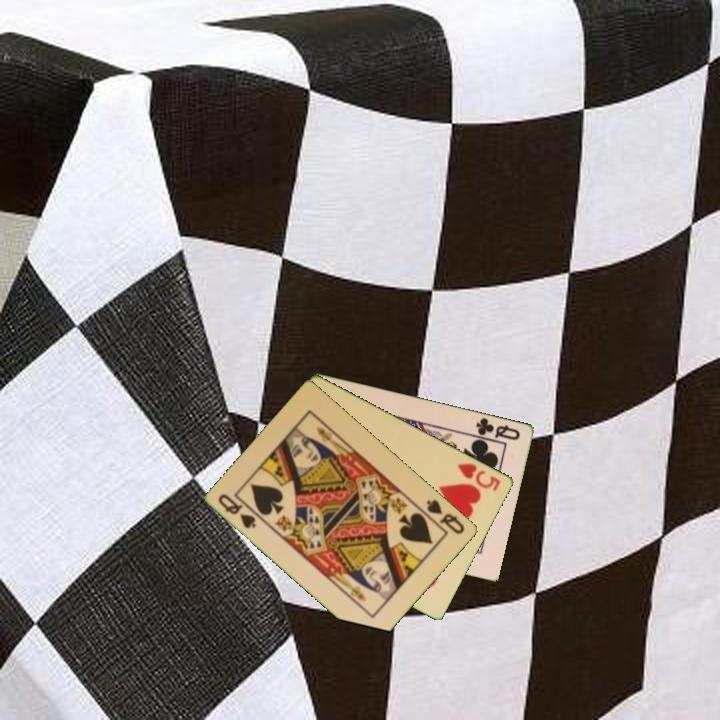5h: (455, 459, 504, 494)
Qc: (473, 414, 523, 443)
Qs: (423, 496, 468, 537), (215, 490, 259, 531)
